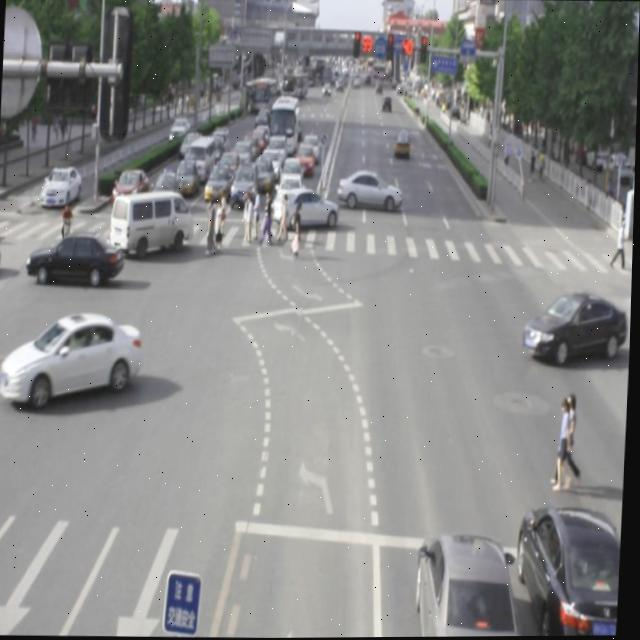car: (506, 494, 624, 637), (1, 309, 145, 404), (407, 523, 517, 638), (522, 287, 627, 364), (27, 230, 126, 284), (276, 187, 339, 232)
truck: (111, 186, 196, 255)
